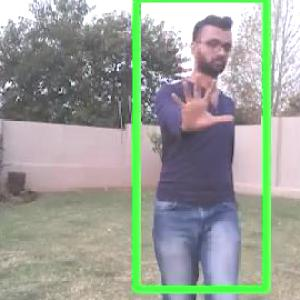follow_hand: (166, 64, 236, 138)
